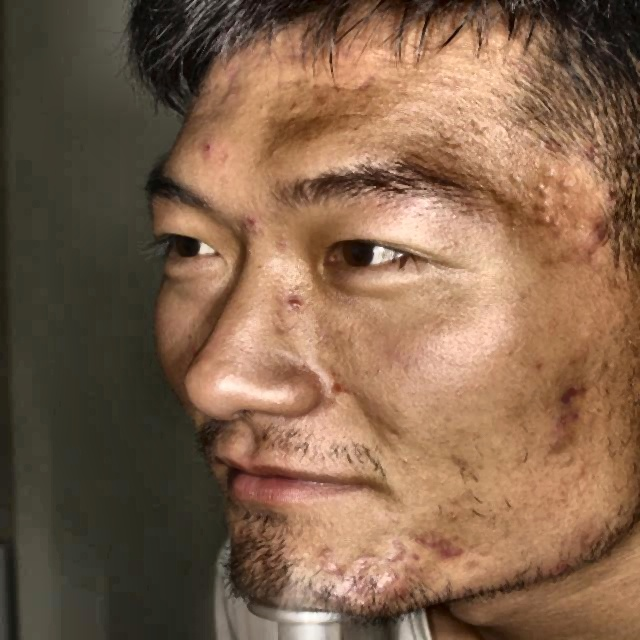pustule: (554, 405, 602, 444), (437, 537, 468, 576), (404, 526, 431, 553), (377, 568, 407, 592), (240, 207, 268, 232), (383, 543, 409, 562), (557, 383, 583, 401), (286, 288, 304, 314), (576, 147, 602, 164), (590, 232, 612, 249), (193, 136, 208, 153), (585, 214, 604, 227), (360, 558, 377, 568), (324, 554, 332, 573)
